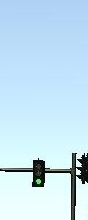Green: (32, 159, 45, 187)
